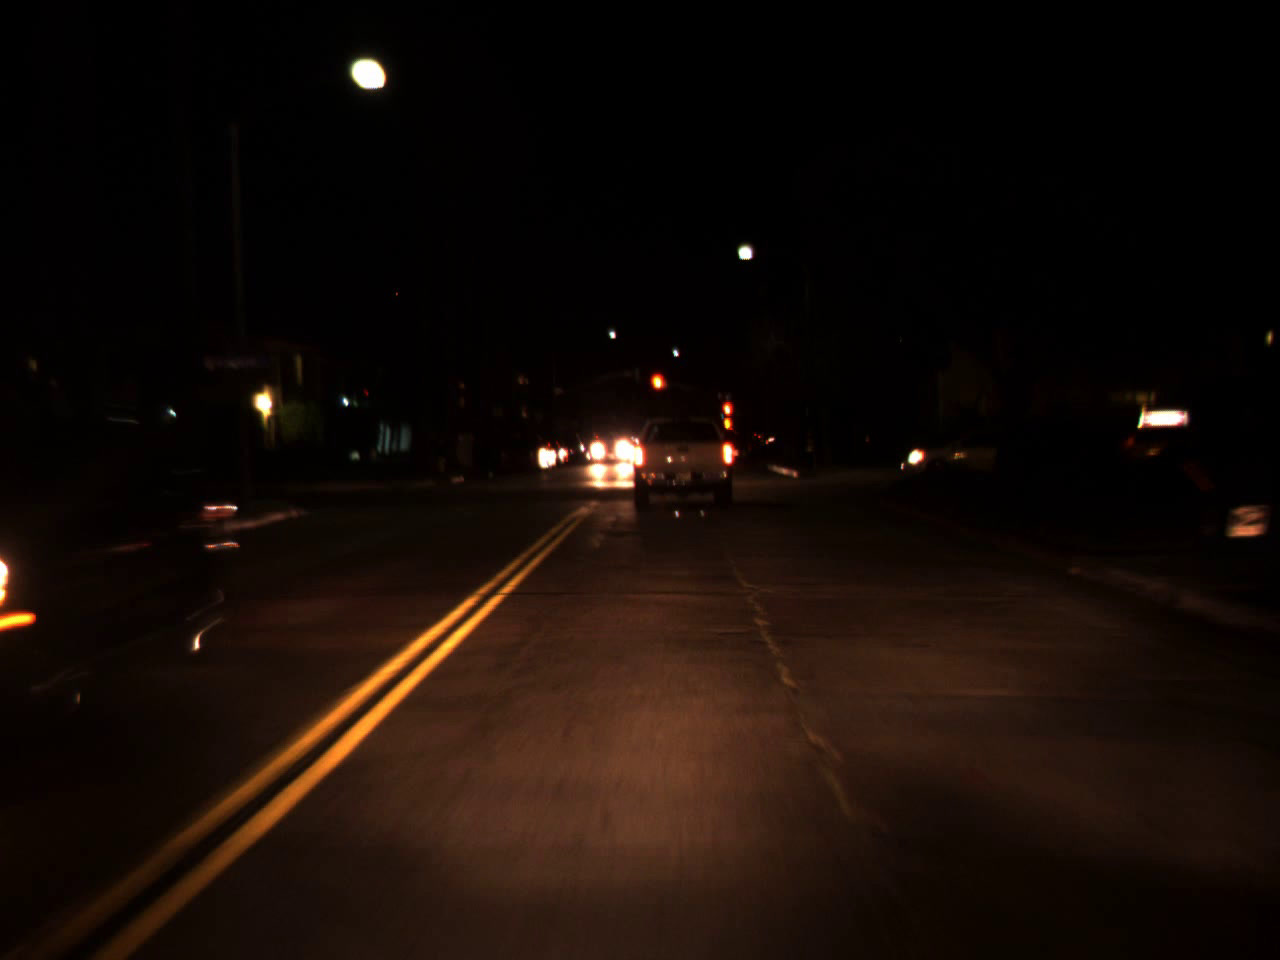stop: (649, 371, 667, 406), (721, 402, 733, 423)
